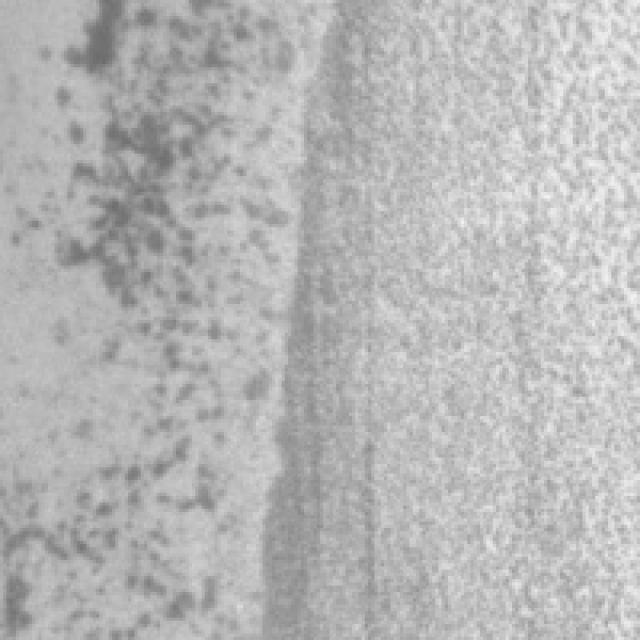pitted_surface: (294, 0, 637, 627), (6, 0, 269, 627)
